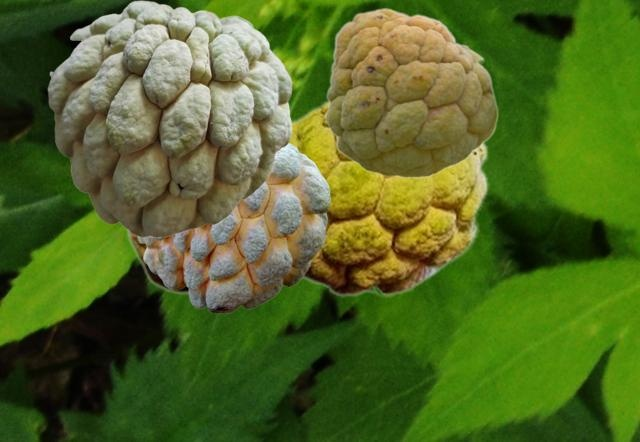atis: (47, 0, 291, 236), (290, 99, 488, 296), (137, 143, 329, 312), (324, 7, 497, 177), (125, 142, 290, 297)
